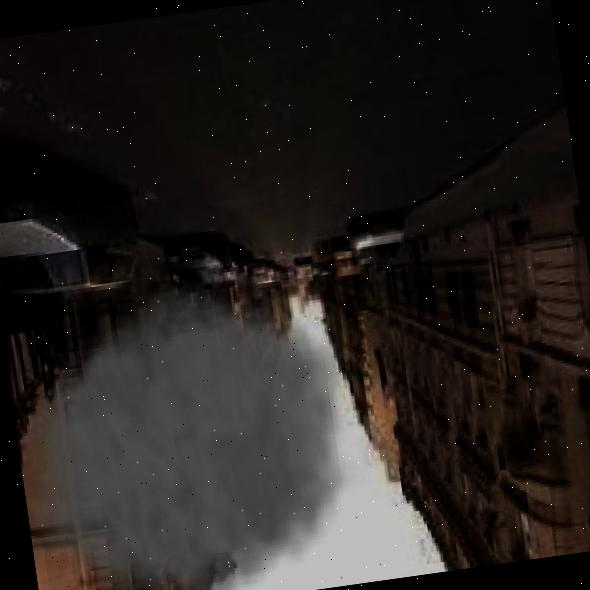smoke: (0, 247, 386, 590)
